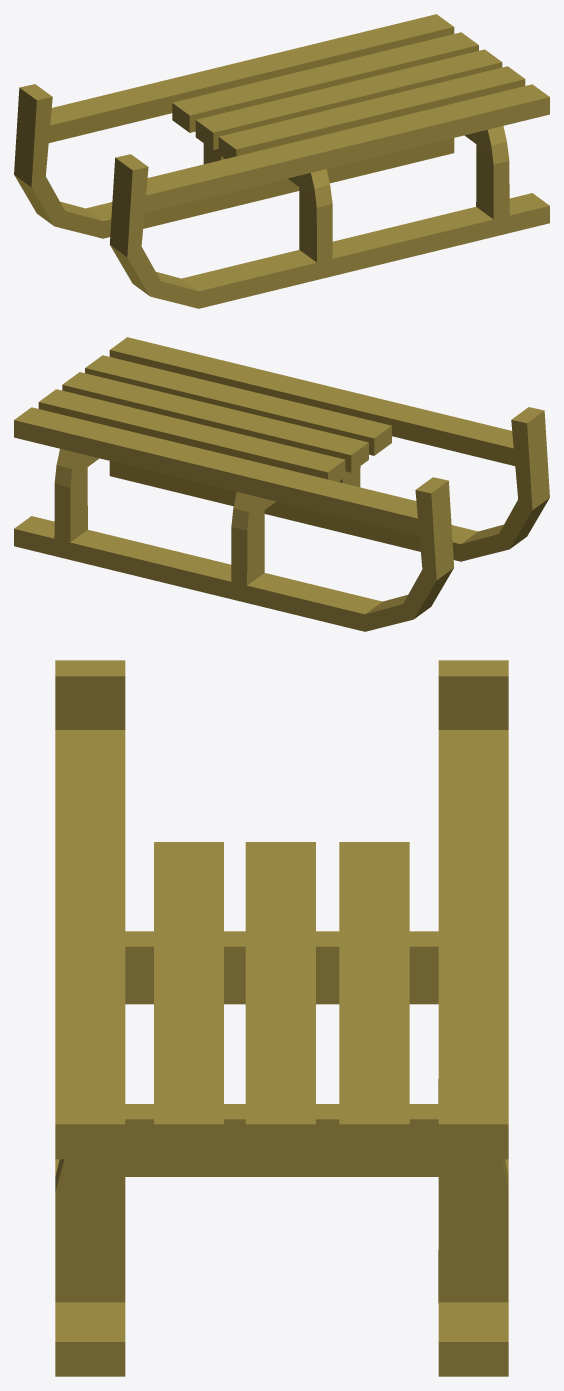
The model's file is Sledge.fbx.
3 views of the same model, one above another, from view 1: azimuth 30°, elevation 25°; view 2: azimuth 150°, elevation 25°; view 3: azimuth 270°, elevation 25° (orthographic). The views are drawn at different scales.
Parts seen in each view (by area): view 1: Sledge; view 2: Sledge; view 3: Sledge.
Part boxes in pixels (x1=…): Sledge: x1=14, y1=14, x2=549, y2=308; Sledge: x1=14, y1=337, x2=549, y2=631; Sledge: x1=55, y1=660, x2=508, y2=1376.
Size of the model in its own units: 0.6373 by 0.2228 by 0.296.
